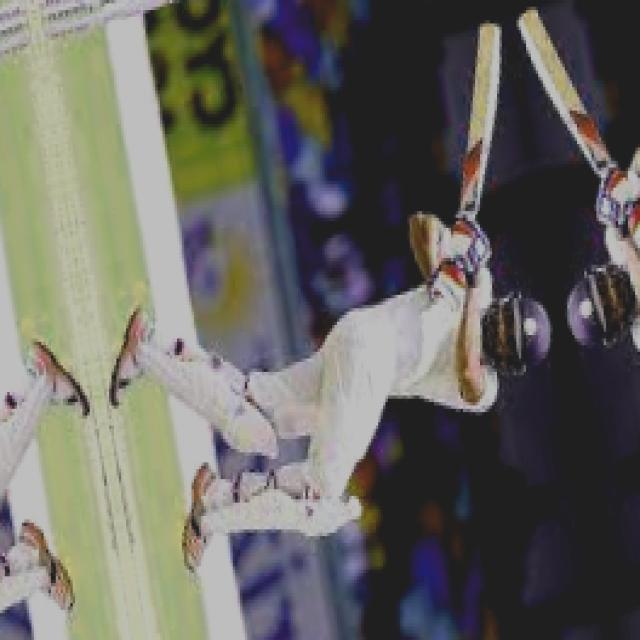toe: (472, 17, 502, 39)
